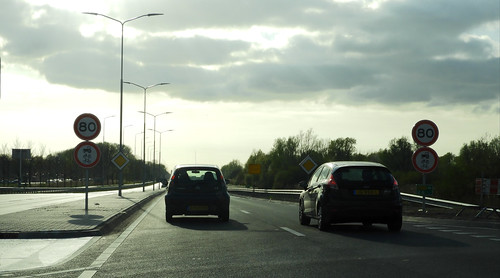car: (298, 162, 403, 229), (164, 160, 231, 219)
light pole: (91, 8, 170, 204), (124, 77, 170, 194)
road: (1, 201, 484, 278)
sign: (76, 106, 105, 170), (411, 121, 437, 176), (236, 160, 267, 179), (296, 151, 317, 176), (110, 148, 130, 172)
sky: (9, 1, 500, 147)
